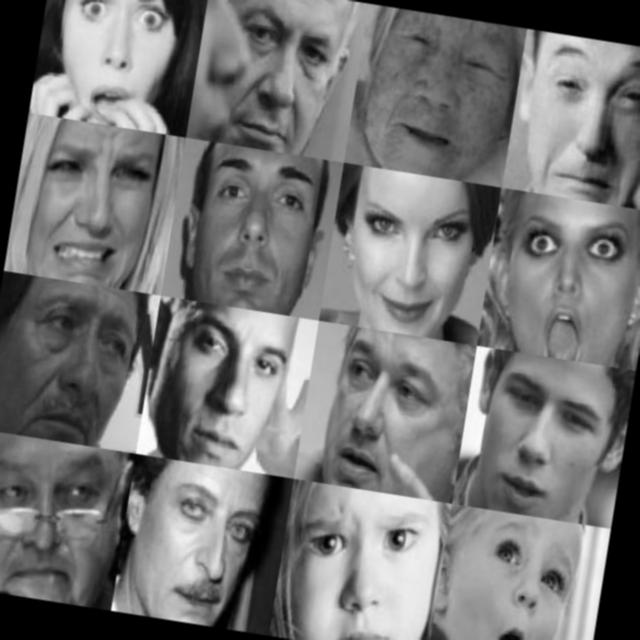angry: (210, 0, 342, 153), (0, 451, 113, 598)
fear: (284, 489, 441, 640), (501, 194, 637, 358), (510, 37, 640, 208), (31, 0, 187, 126), (445, 520, 584, 640)
happy: (334, 178, 497, 334), (359, 18, 512, 182)
neutral: (125, 473, 274, 629), (313, 342, 461, 494), (156, 310, 298, 464), (474, 366, 612, 511)
sad: (15, 132, 164, 290), (0, 286, 136, 448)
